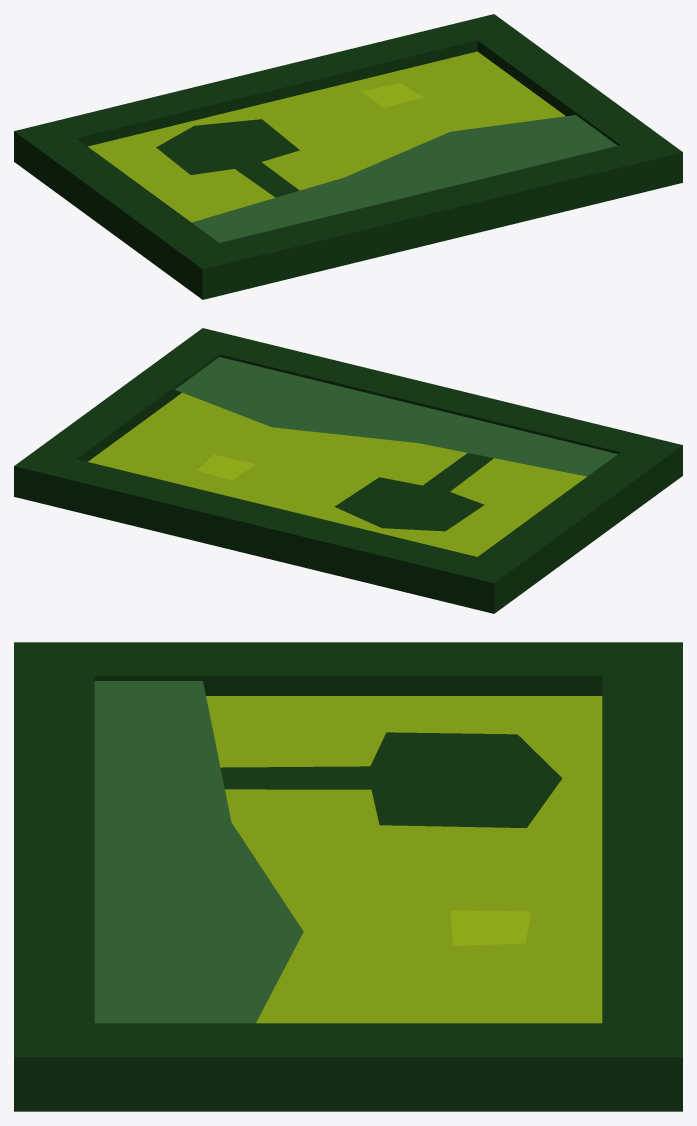
Rendered from painting.obj.
3 views of the same model, one above another, from view 1: azimuth 30°, elevation 25°; view 2: azimuth 150°, elevation 25°; view 3: azimuth 270°, elevation 25° (orthographic). The views are drawn at different scales.
Visible parts, largest first — view 1: Cube; view 2: Cube; view 3: Cube.
Part boxes in pixels (box(x1,y1,x2,y2)): Cube: box(14, 14, 682, 299); Cube: box(14, 328, 682, 613); Cube: box(14, 642, 682, 1111).
Size of the model in its own units: 0.3821 by 0.0233 by 0.2601.
